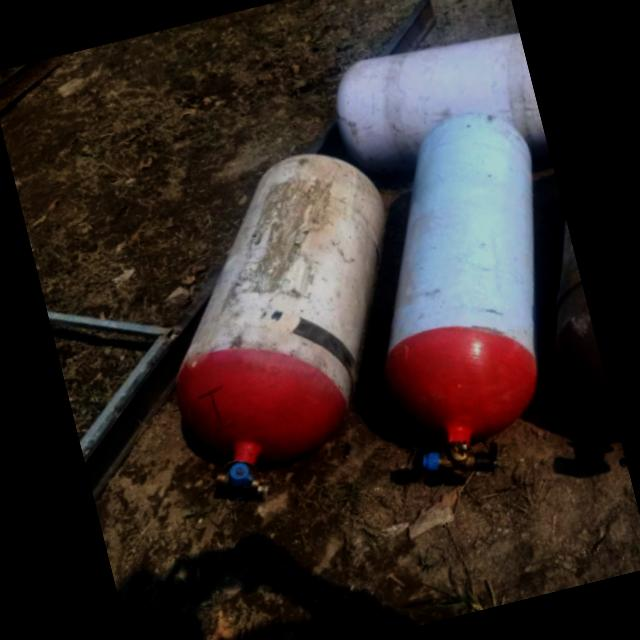Cylinders: (174, 148, 390, 503), (381, 111, 542, 471), (335, 29, 546, 157)
